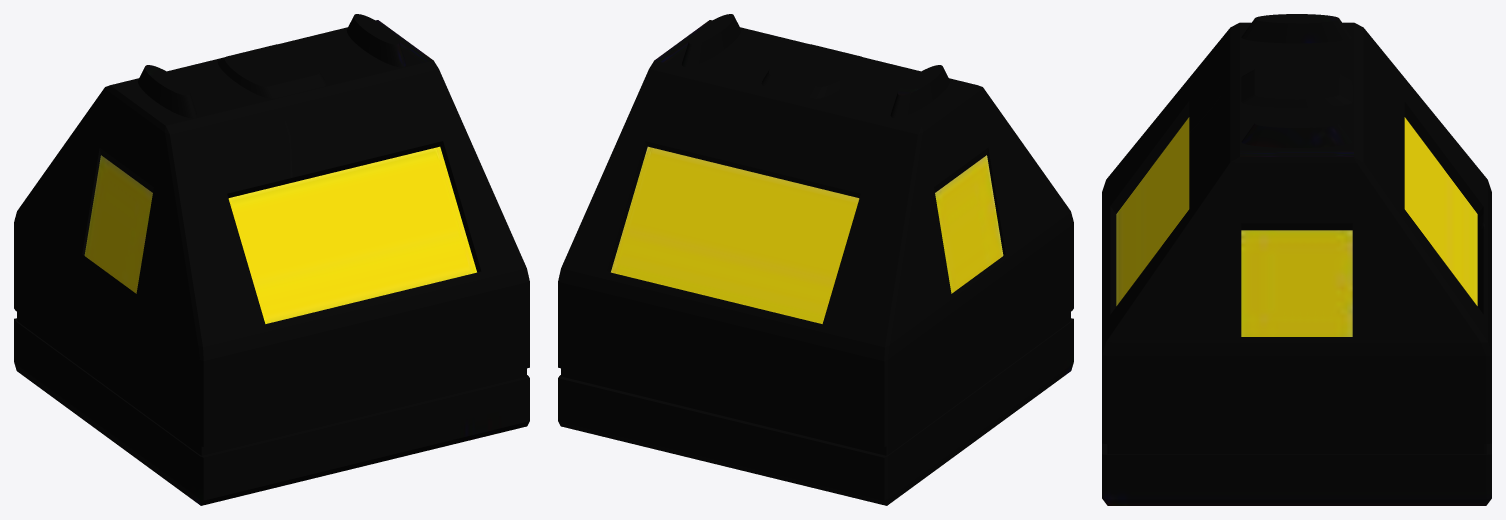
Rendered from parking_limit.gltf.
3 renders of one model, left to right at view 1: azimuth 30°, elevation 25°; view 2: azimuth 150°, elevation 25°; view 3: azimuth 270°, elevation 25°, orthographic. The views are drawn at different scales.
Visible parts, largest first — view 1: final; view 2: final; view 3: final.
Boxes of the visible parts, <box> form: final: <box>14,14,529,505</box>; final: <box>558,14,1073,505</box>; final: <box>1102,14,1491,505</box>.
Bounding box in the file's own units: 1 × 1 × 1.
Materials: 1 (1 with a texture image).
